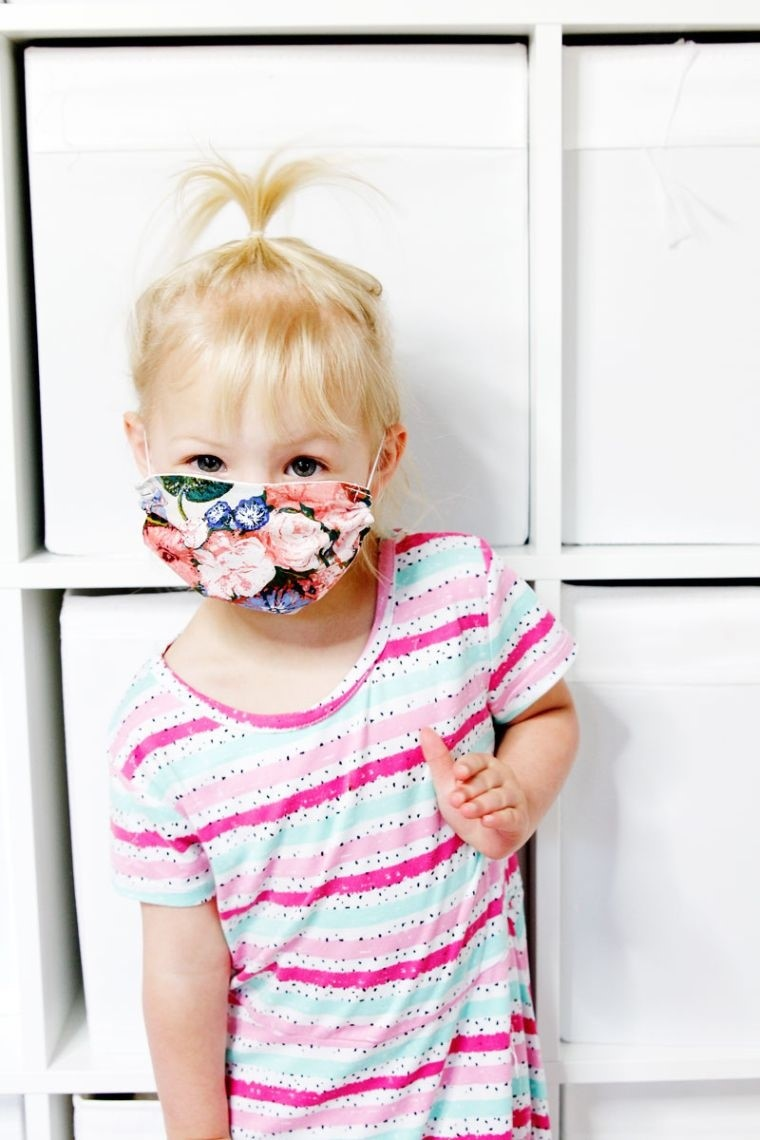face_with_mask: (111, 279, 424, 648)
